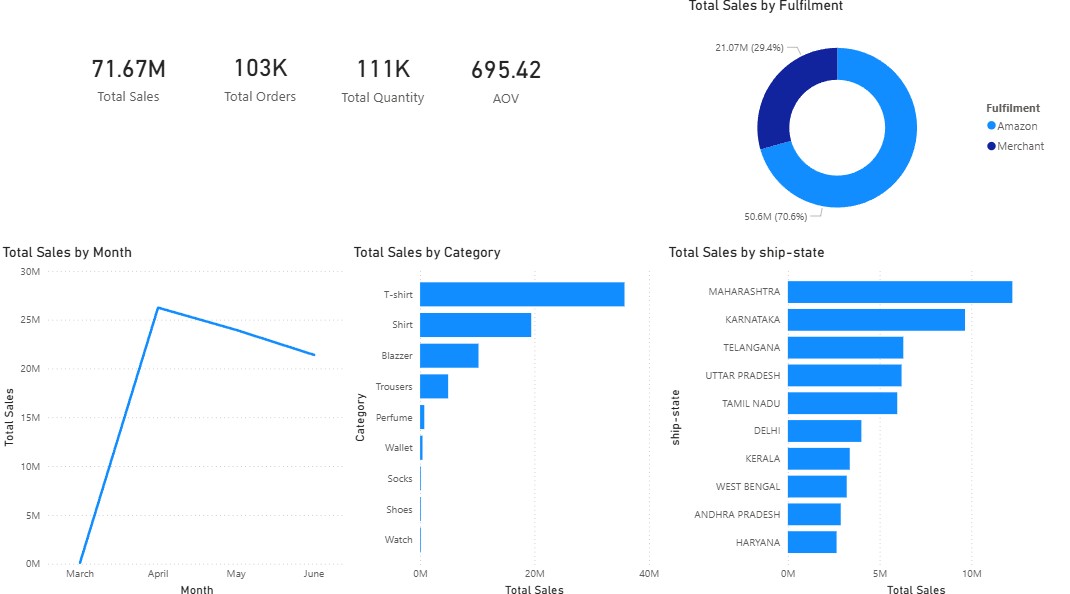

The dashboard page shown, as its layout file describes it:
{"tool":"powerbi","page":{"name":"Page 1","canvas":[1280,720],"ordinal":0},"visuals":[{"type":"card","fields":{"Values":["Amazon Sale Report.Total Sales"]},"box":[86.6,0,138.8,188.1],"z":0},{"type":"card","fields":{"Values":["Amazon Sale Report.Total Orders"]},"box":[225.7,0,175.7,187.1],"z":1000},{"type":"card","fields":{"Values":["Amazon Sale Report.Total Quantity"]},"box":[386.6,1.5,146.3,186.6],"z":2000},{"type":"card","fields":{"Values":["Amazon Sale Report.AOV"]},"box":[538.8,3,135.8,186.6],"z":3000},{"type":"lineChart","fields":{"Y":["Amazon Sale Report.Total Sales"],"Category":["Amazon Sale Report.Date.Variation.Date Hierarchy.Month"]},"box":[0,293.3,420,426.7],"z":4000},{"type":"barChart","fields":{"Category":["Amazon Sale Report.Category"],"Y":["Amazon Sale Report.Total Sales"]},"box":[420,293.3,375,426.7],"z":5000},{"type":"donutChart","fields":{"Y":["Amazon Sale Report.Total Sales"],"Category":["Amazon Sale Report.Fulfilment"]},"box":[820,0,446.7,293.3],"z":6000},{"type":"barChart","fields":{"Category":["Amazon Sale Report.ship-state"],"Y":["Amazon Sale Report.Total Sales"]},"box":[795,293.3,471.7,426.7],"z":7000}]}

Visuals, with their boxes in screenshot pixels (x1, y1, x2, y2), scaled from the page's 1280x720 canvas onto the 1070x594 screenshot:
card - Amazon Sale Report.Total Sales: <box>72,0,188,155</box>
card - Amazon Sale Report.Total Orders: <box>189,0,336,154</box>
card - Amazon Sale Report.Total Quantity: <box>323,1,445,155</box>
card - Amazon Sale Report.AOV: <box>450,2,564,156</box>
lineChart - Amazon Sale Report.Total Sales x Amazon Sale Report.Date.Variation.Date Hierarchy.Month: <box>0,242,351,593</box>
barChart - Amazon Sale Report.Category x Amazon Sale Report.Total Sales: <box>351,242,665,593</box>
donutChart - Amazon Sale Report.Total Sales x Amazon Sale Report.Fulfilment: <box>685,0,1059,242</box>
barChart - Amazon Sale Report.ship-state x Amazon Sale Report.Total Sales: <box>665,242,1059,593</box>
